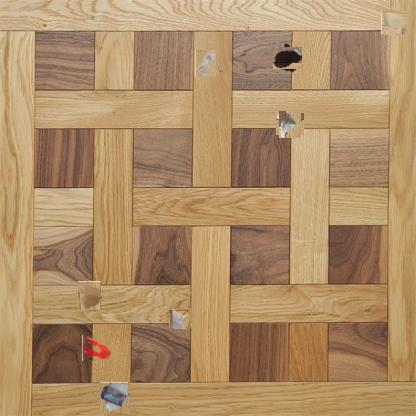dirty: (100, 383, 129, 413), (76, 283, 103, 309), (277, 112, 303, 136), (382, 10, 406, 35), (195, 49, 216, 77), (170, 308, 191, 328)
liquid: (82, 336, 111, 362), (274, 45, 300, 71)
